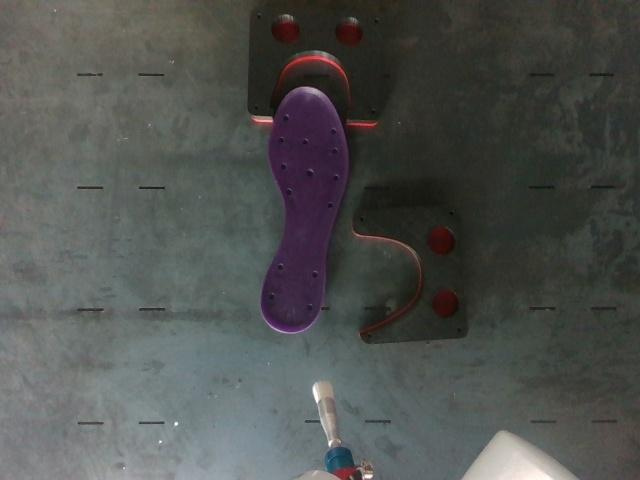shoes: (261, 86, 348, 333)
